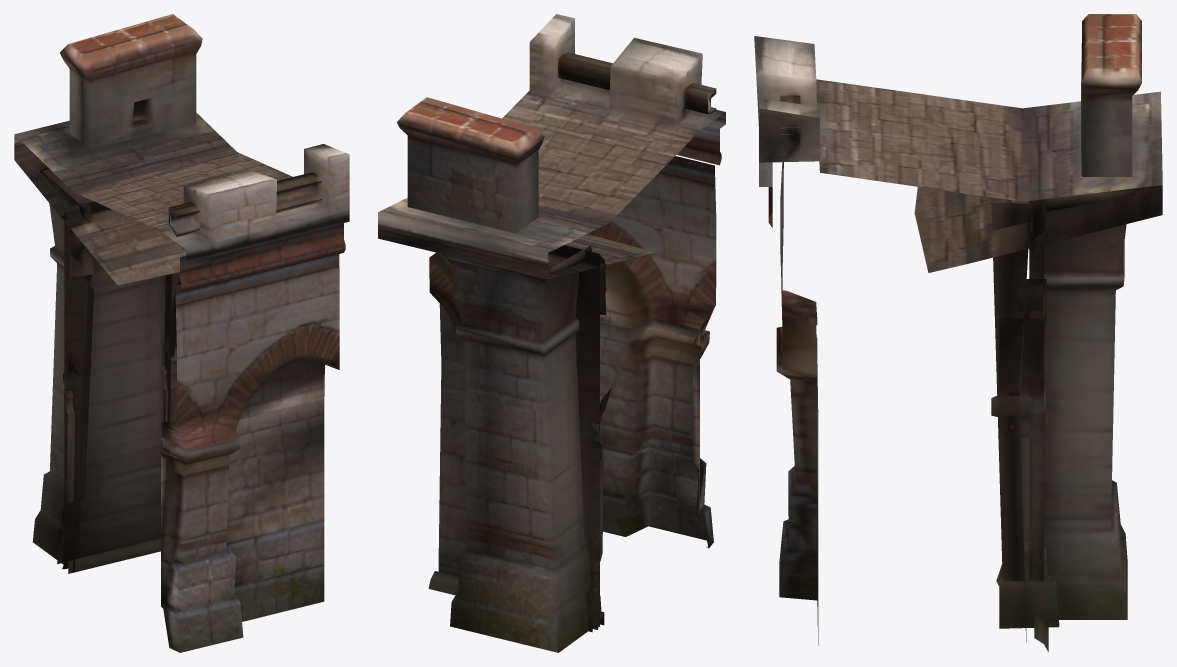
The model's file is WallRunLeft_22.fbx.
3 renders of one model, left to right at view 1: azimuth 30°, elevation 25°; view 2: azimuth 150°, elevation 25°; view 3: azimuth 270°, elevation 25°, orthographic. The views are drawn at different scales.
Visible parts, largest first — view 1: Imported wall section.050; view 2: Imported wall section.050; view 3: Imported wall section.050.
Boxes of the visible parts, box(x1,y1,x2,y2) form: Imported wall section.050: box(14, 14, 349, 652); Imported wall section.050: box(378, 14, 725, 652); Imported wall section.050: box(754, 14, 1162, 651).
Size of the model in its own units: 200 by 574 by 369.
Materials: 1 (1 with a texture image).
